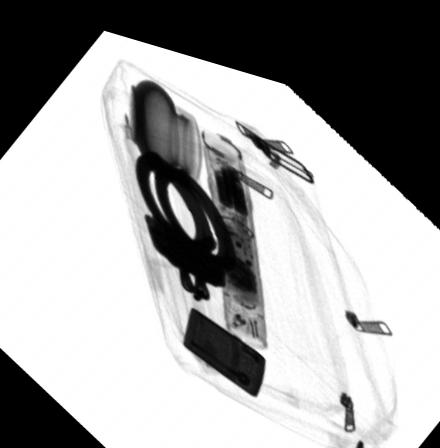Baton: (198, 115, 269, 335)
HandCuffs: (135, 139, 238, 288)
Lighter: (183, 296, 267, 383)
